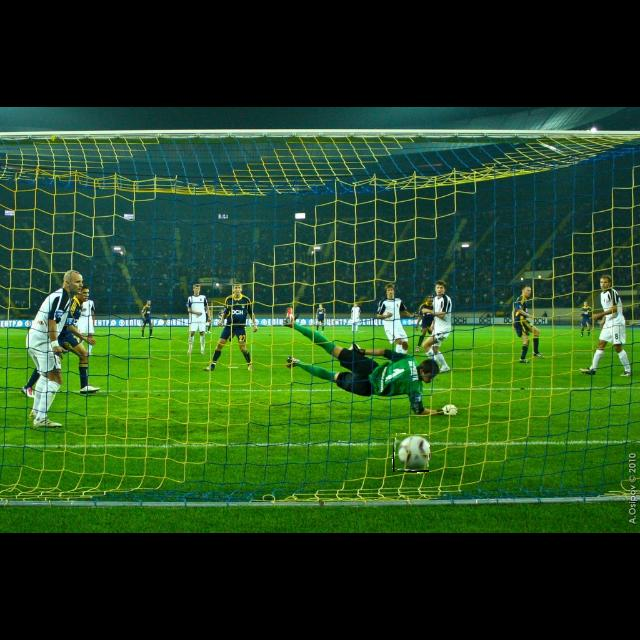Football: (393, 434, 429, 472)
